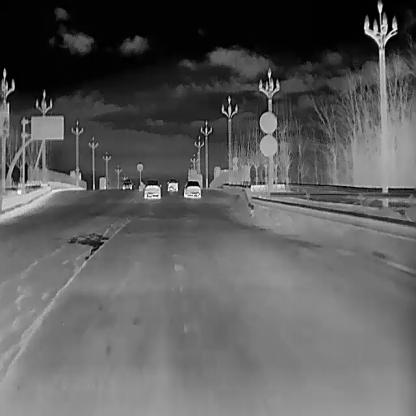car: (142, 178, 161, 198), (183, 180, 200, 198), (166, 177, 177, 191), (121, 177, 133, 189)
